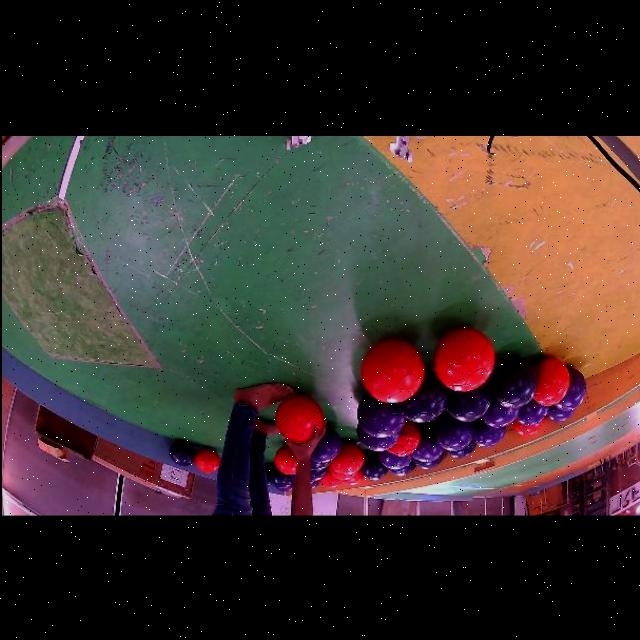B: (396, 372, 448, 423), (491, 357, 537, 409), (446, 384, 491, 422), (359, 452, 386, 480), (168, 440, 194, 465), (444, 440, 475, 459), (269, 467, 291, 488), (388, 460, 415, 476), (310, 467, 327, 481), (310, 461, 330, 471)
P: (356, 394, 405, 438), (435, 415, 473, 451), (555, 368, 586, 411), (480, 397, 520, 427), (410, 426, 443, 462), (356, 425, 399, 451), (310, 427, 340, 463), (472, 418, 505, 447), (514, 399, 547, 426), (377, 451, 411, 469), (411, 452, 443, 469), (546, 405, 574, 422), (275, 487, 291, 493), (310, 481, 318, 488)
R: (432, 327, 495, 392), (360, 340, 423, 403), (277, 395, 322, 442), (533, 357, 568, 406), (386, 421, 419, 456), (330, 442, 364, 475), (273, 446, 297, 475), (194, 448, 219, 473), (510, 418, 543, 436), (328, 466, 356, 481), (318, 472, 340, 488), (340, 471, 363, 485)
